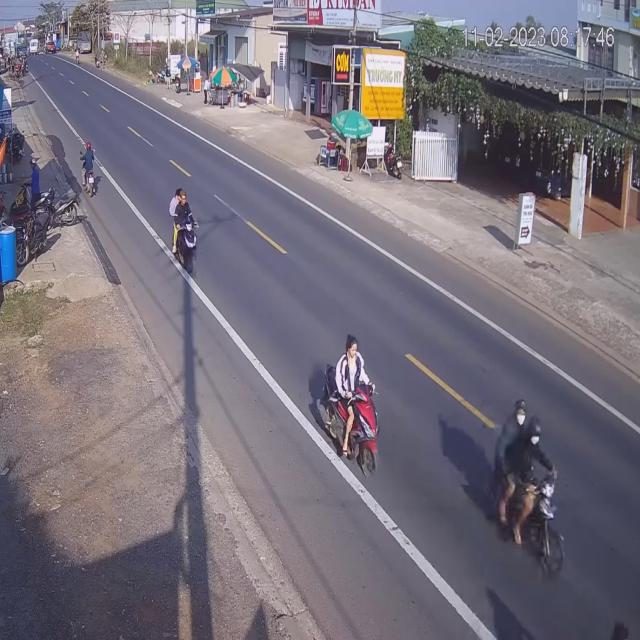motorbike: (492, 400, 558, 580), (314, 337, 381, 473), (174, 187, 202, 272), (82, 141, 99, 197)
